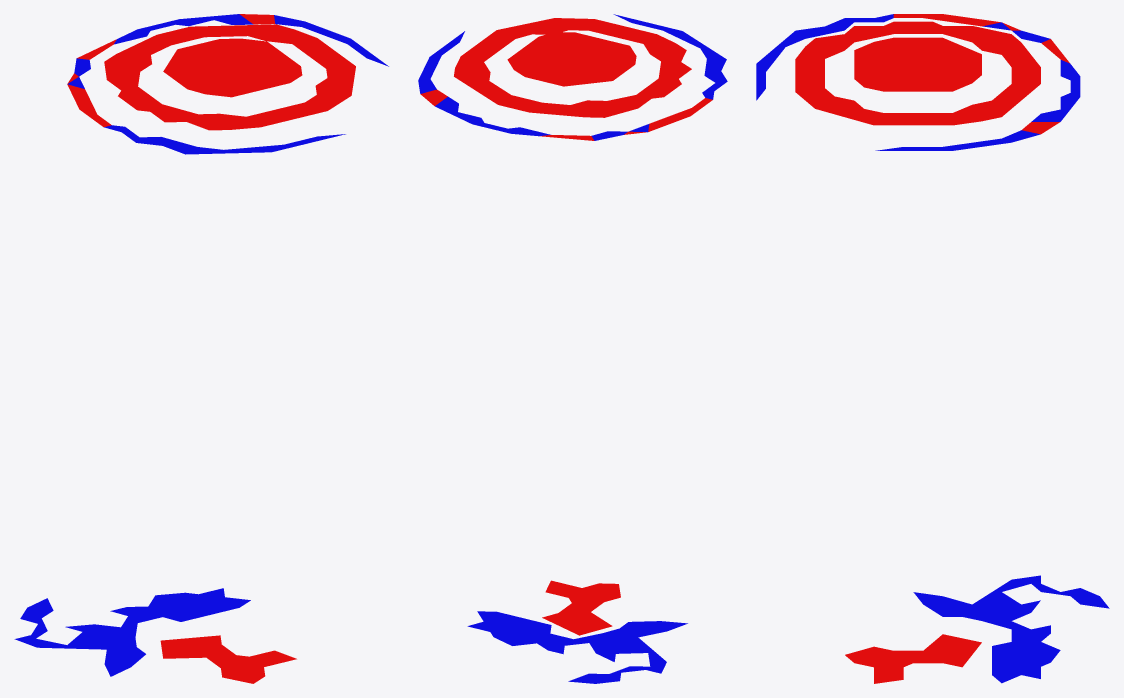
Rendered from small_navmesh_colour.gltf.
The picture shows the model from 3 angles, left to right: view 1: azimuth 30°, elevation 25°; view 2: azimuth 150°, elevation 25°; view 3: azimuth 270°, elevation 25°; orthographic projection. The views are drawn at different scales.
Visible parts, largest first — view 1: Mesh; view 2: Mesh; view 3: Mesh.
Part boxes in pixels (x1,y1,x2,y2): Mesh: [14, 14, 388, 683]; Mesh: [418, 14, 727, 683]; Mesh: [756, 14, 1109, 683].
Bounding box in the file's own units: 105 × 201 × 108.
